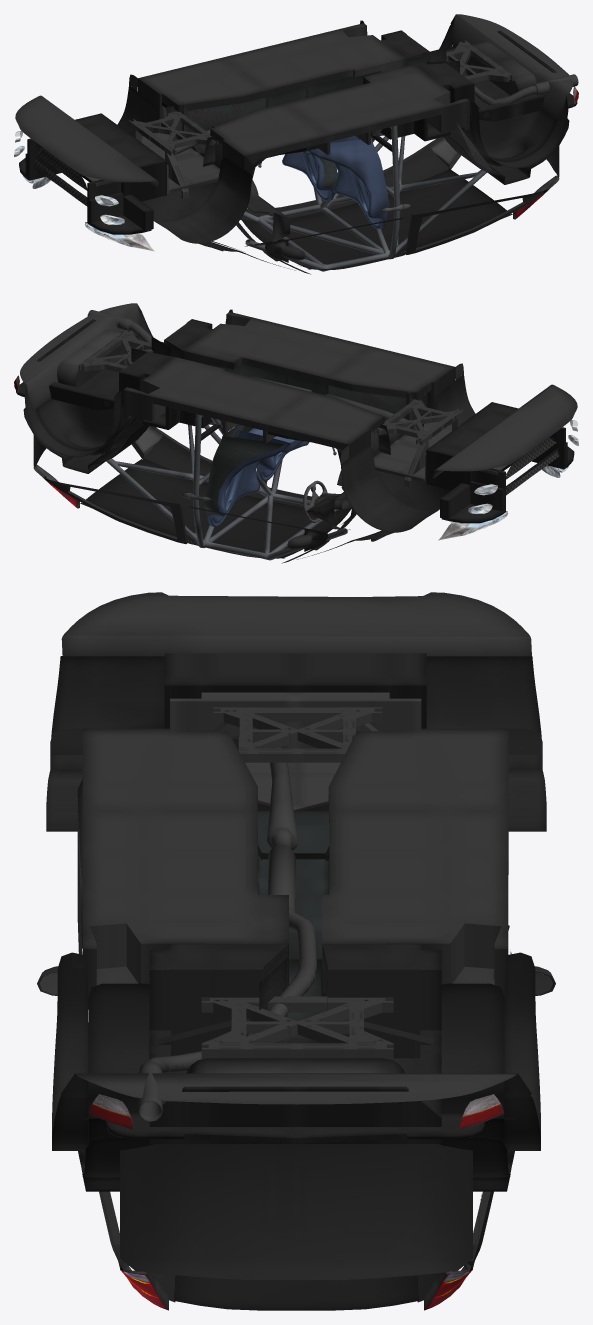
The model's file is FN_interior.obj.
3 views of the same model, one above another, from view 1: azimuth 30°, elevation 25°; view 2: azimuth 150°, elevation 25°; view 3: azimuth 270°, elevation 25° (orthographic). The views are drawn at different scales.
Bounding box in the file's own units: 3.97 × 1.25 × 1.83.
1 material, 1 textured.
